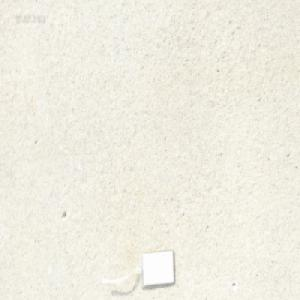LuggageTag: (97, 246, 174, 289)
